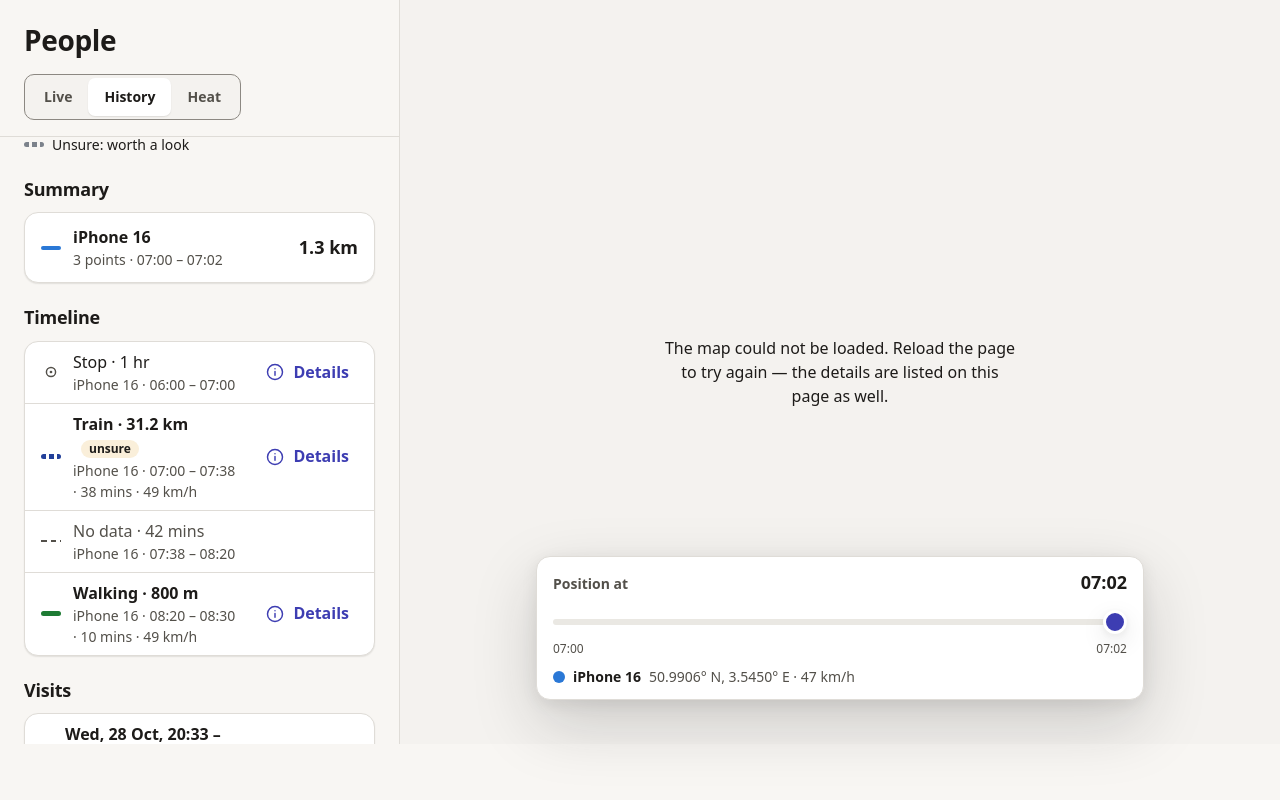
Test: continuity at the Transport level › tells in a stop's details how far one moved within it
(page scrolled)
Click the button with aria-label "Details of the stop": (307, 372) 248,350 -> 366,394
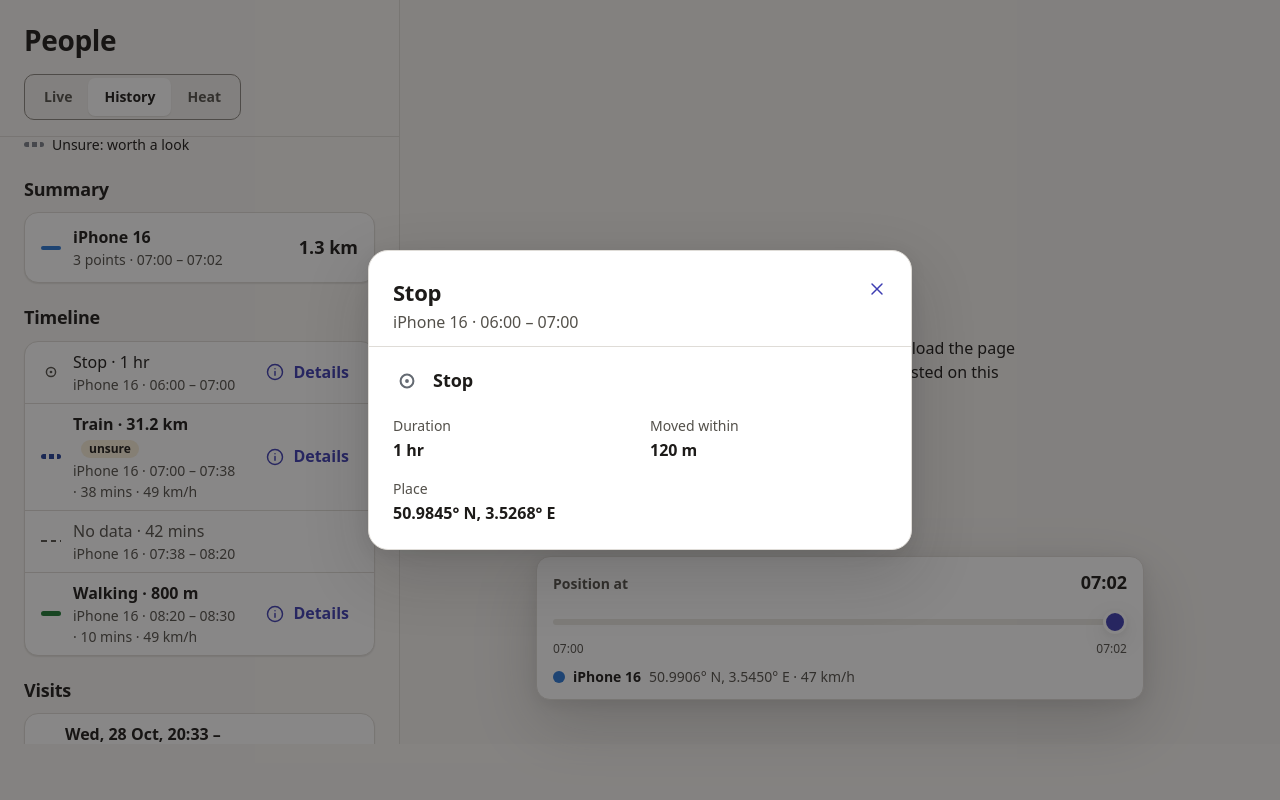
Now the text "Moved within" is shown, box 650,416 -> 739,435
Now the text "120 m" is shown, box 650,439 -> 697,461
Now the text "Duration" is shown, box 393,416 -> 451,435
